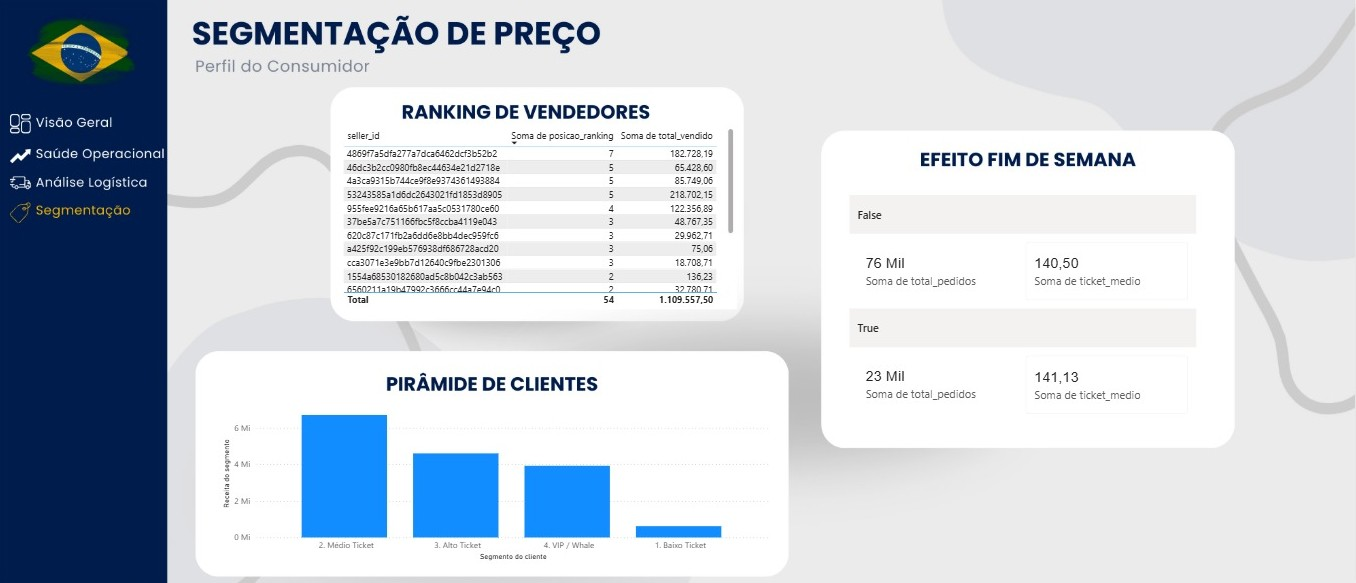

Layout of this report page (visuals, bound fields, positions):
{"tool":"powerbi","page":{"name":"Segmentação","canvas":[2000,866],"ordinal":3},"visuals":[{"type":"columnChart","fields":{"Y":["Sum(Segmentação de Clientes.receita_segmento)"],"Category":["Segmentação de Clientes.segmento_cliente"]},"box":[329.4,592.6,814.7,241.2],"z":0},{"type":"tableEx","fields":{"Values":["Top 3 Vendedores por Trimestre.seller_id","Sum(Top 3 Vendedores por Trimestre.posicao_ranking)","Sum(Top 3 Vendedores por Trimestre.total_vendido)"]},"box":[507.4,188.2,583.8,270.6],"z":1000},{"type":"cardVisual","fields":{"Rows":["Fim de Semana.is_weekend"],"Data":["Sum(Fim de Semana.total_pedidos)","Sum(Fim de Semana.ticket_medio)"]},"box":[1251.5,266.2,520.6,385.3],"z":2000},{"type":"actionButton","box":[0,167.6,252.9,41.2],"z":3000},{"type":"actionButton","box":[0,208.8,252.9,39.7],"z":4000},{"type":"actionButton","box":[0,248.5,252.9,39.7],"z":5000}]}

Visuals, with their boxes on the page's 2000x866 design canvas (x1, y1, x2, y2). These are canvas units, not pixel positions in the 1356x583 screenshot, which may show the page scaled, cropped or inside an application window:
columnChart - Sum(Segmentação de Clientes.receita_segmento) x Segmentação de Clientes.segmento_cliente: box(329, 593, 1144, 834)
tableEx - Top 3 Vendedores por Trimestre.seller_id x Sum(Top 3 Vendedores por Trimestre.posicao_ranking): box(507, 188, 1091, 459)
cardVisual - Fim de Semana.is_weekend x Sum(Fim de Semana.total_pedidos): box(1252, 266, 1772, 652)
actionButton: box(0, 168, 253, 209)
actionButton: box(0, 209, 253, 248)
actionButton: box(0, 248, 253, 288)
